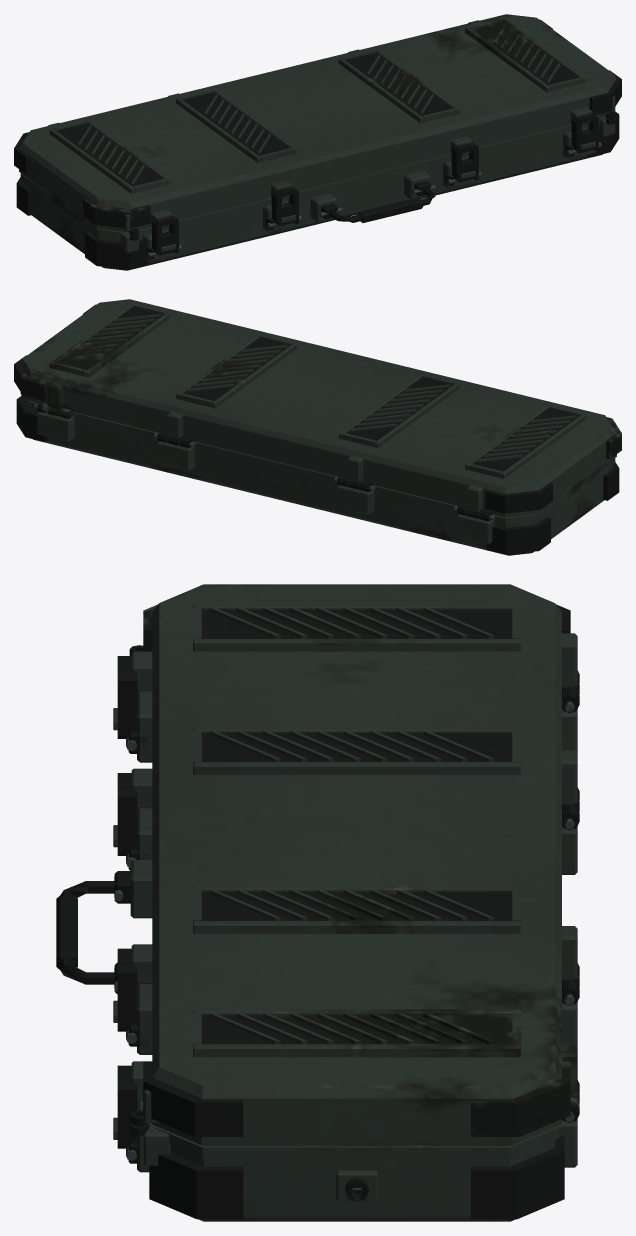
File: weapon_case.glb
3 renders of one model, top to bottom at view 1: azimuth 30°, elevation 25°; view 2: azimuth 150°, elevation 25°; view 3: azimuth 270°, elevation 25°, orthographic. The views are drawn at different scales.
Visible parts, largest first — view 1: WeaponCaseLid, WeaponCaseBody, WeaponCaseHandle, WeaponCaseLatch4, WeaponCaseLatch2, WeaponCaseLatch3, WeaponCaseLatch1; view 2: WeaponCaseLid, WeaponCaseBody; view 3: WeaponCaseLid, WeaponCaseBody, WeaponCaseHandle, WeaponCaseLatch3, WeaponCaseLatch1, WeaponCaseLatch2, WeaponCaseLatch4.
Part boxes in pixels (x1,y1,x2,y2): WeaponCaseLid: (14,14,621,235); WeaponCaseBody: (16,111,619,270); WeaponCaseHandle: (329,187,435,222); WeaponCaseLatch4: (567,113,601,154); WeaponCaseLatch2: (267,186,301,228); WeaponCaseLatch3: (447,142,481,184); WeaponCaseLatch1: (147,215,181,257); WeaponCaseLid: (14,299,621,518); WeaponCaseBody: (16,392,619,555); WeaponCaseLid: (129,584,579,1145); WeaponCaseBody: (114,670,579,1221); WeaponCaseHandle: (56,881,114,984); WeaponCaseLatch3: (113,948,137,1043); WeaponCaseLatch1: (113,656,137,751); WeaponCaseLatch2: (113,773,137,867); WeaponCaseLatch4: (113,1065,137,1160).
Size of what is drawn, in the model's own units: 1.23 by 0.178 by 0.529.
Materials: 1 (1 with a texture image).
